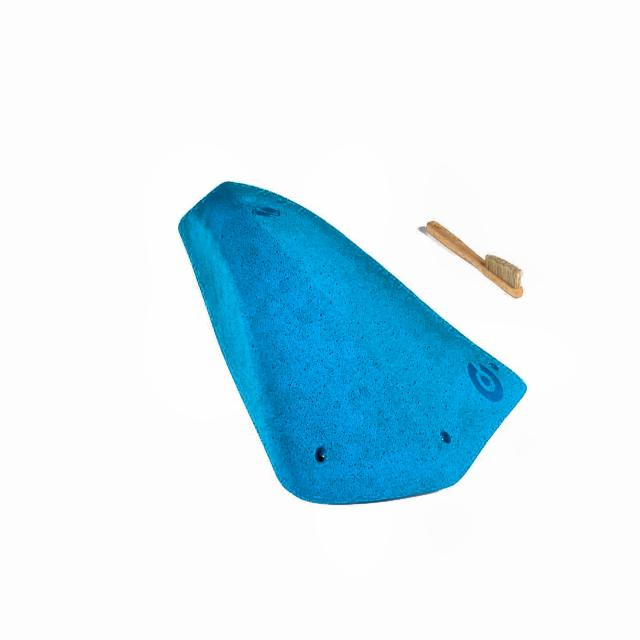Hold: (161, 159, 551, 529)
